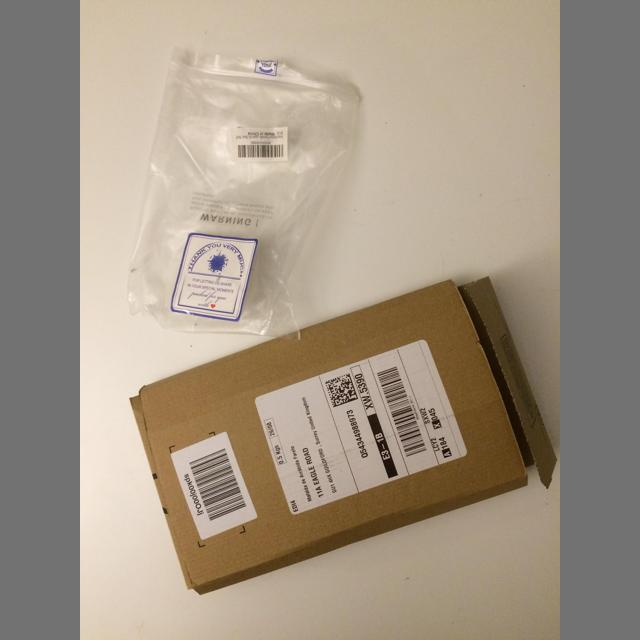litter: (129, 276, 557, 595), (127, 45, 359, 340)
